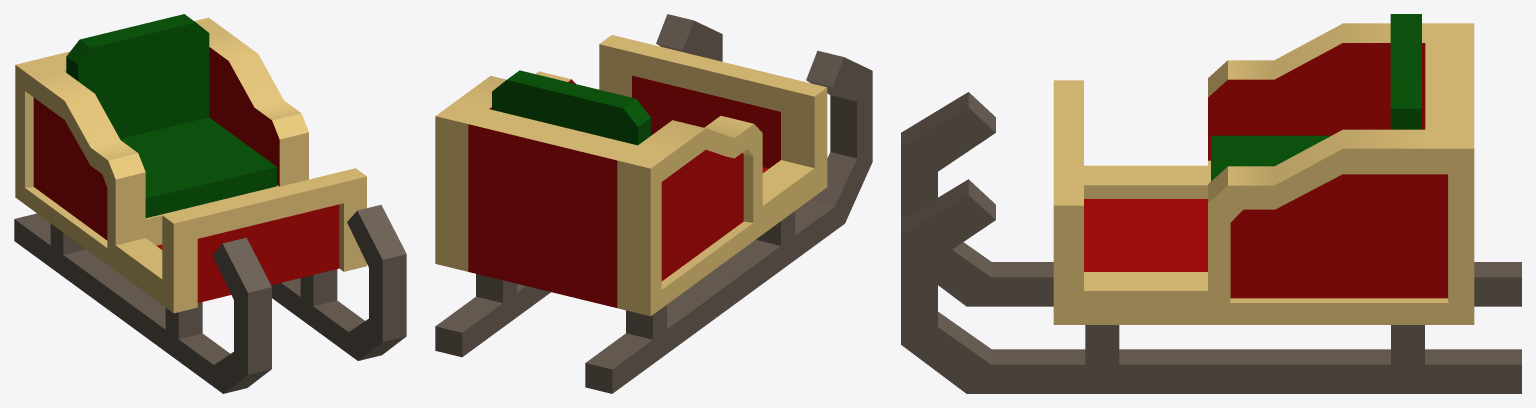
File: 018 Buggy.fbx
3 renders of one model, left to right at view 1: azimuth 30°, elevation 25°; view 2: azimuth 150°, elevation 25°; view 3: azimuth 270°, elevation 25°, orthographic. The views are drawn at different scales.
Visible parts, largest first — view 1: Lowpoly_Christmas_Pack_018:pCube3; view 2: Lowpoly_Christmas_Pack_018:pCube3; view 3: Lowpoly_Christmas_Pack_018:pCube3.
Part boxes in pixels (box(x1,y1,x2,y2)): Lowpoly_Christmas_Pack_018:pCube3: box(14, 14, 406, 393); Lowpoly_Christmas_Pack_018:pCube3: box(435, 14, 872, 393); Lowpoly_Christmas_Pack_018:pCube3: box(901, 14, 1521, 393).
Size of the model in its own units: 1.41 by 1.55 by 2.95.
